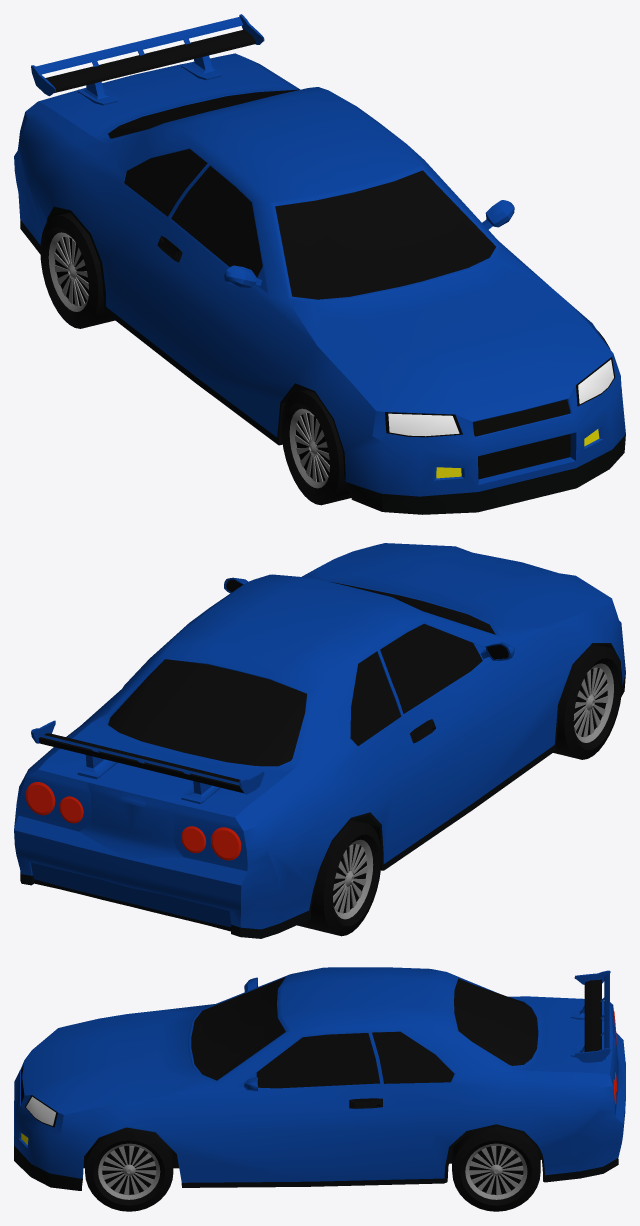
3 renders of one model, top to bottom at view 1: azimuth 30°, elevation 25°; view 2: azimuth 150°, elevation 25°; view 3: azimuth 270°, elevation 25°, orthographic. The views are drawn at different scales.
Parts seen in each view (by area): view 1: Cube, Cylinder.001, Cylinder.002; view 2: Cube, Cylinder.001, Cylinder.002; view 3: Cube, Cylinder.004, Cylinder.003.
Boxes of the visible parts, bbox=[...] form: Cube: bbox=[14, 14, 625, 514]; Cylinder.001: bbox=[40, 212, 114, 328]; Cylinder.002: bbox=[281, 389, 351, 505]; Cube: bbox=[14, 543, 625, 938]; Cylinder.001: bbox=[297, 820, 381, 936]; Cylinder.002: bbox=[553, 644, 622, 759]; Cube: bbox=[14, 967, 625, 1190]; Cylinder.004: bbox=[452, 1126, 540, 1211]; Cylinder.003: bbox=[85, 1127, 173, 1211].
Size of the model in its own units: 162 by 117 by 387.
1 material, 1 textured.
